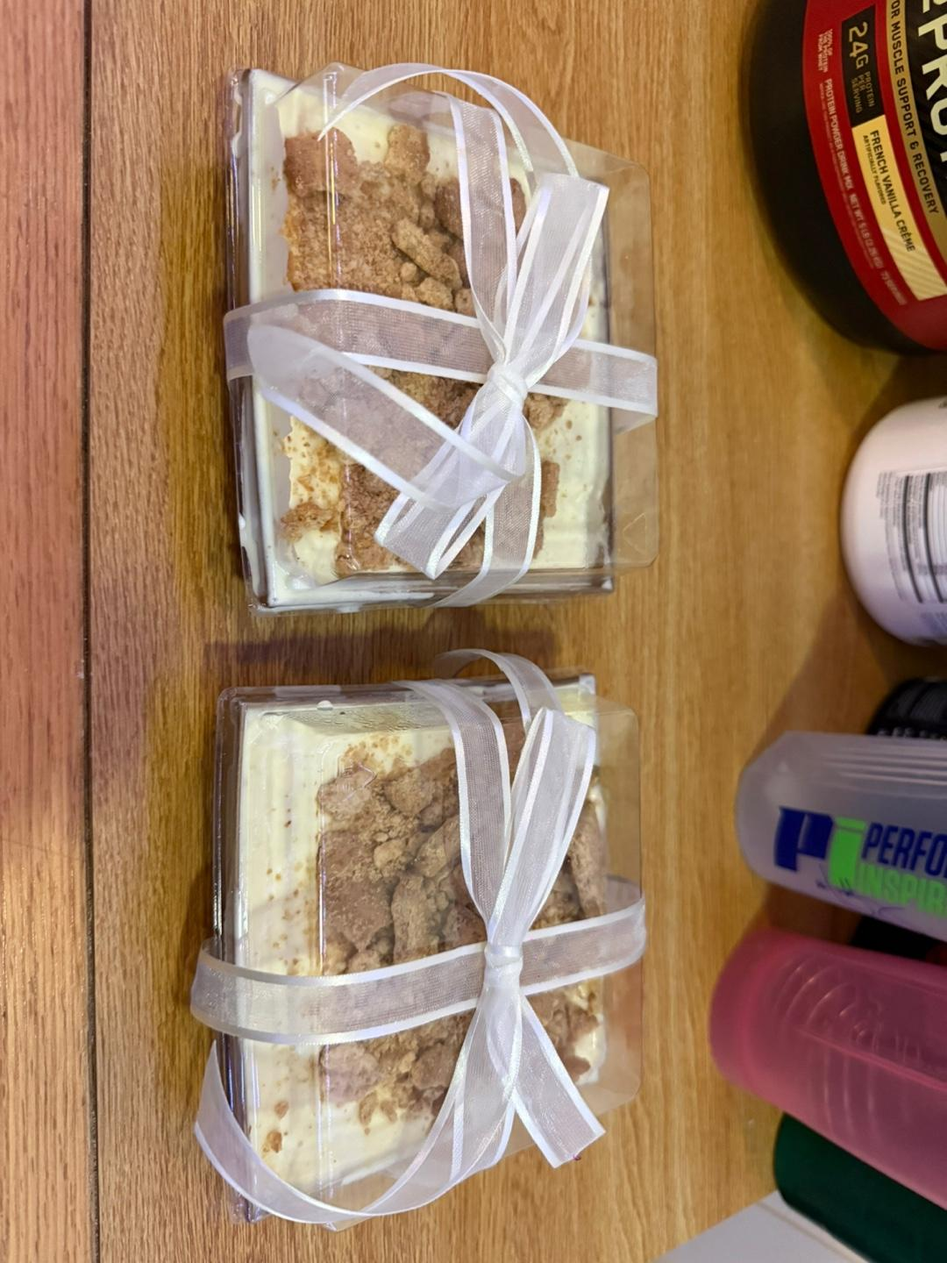Lunch Box: (191, 651, 645, 1229), (224, 64, 657, 612)
